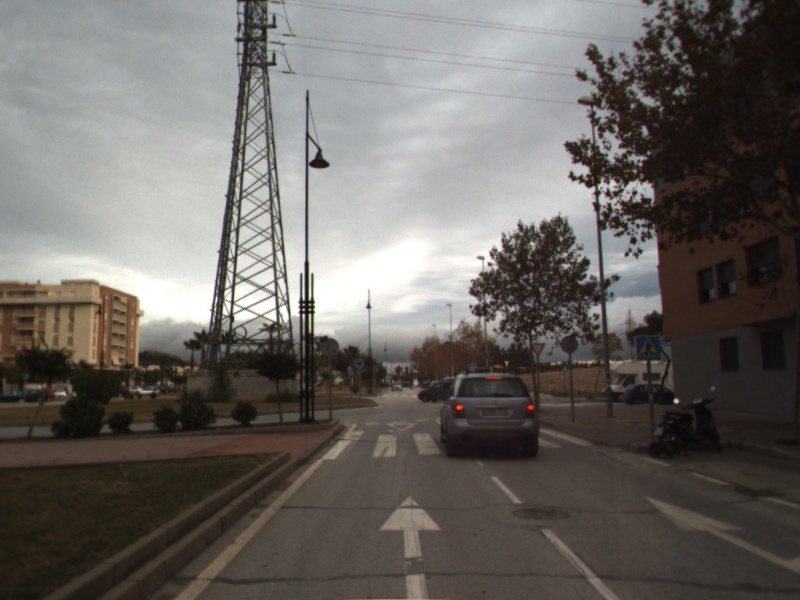STRAIGHT: (644, 495, 800, 575), (375, 493, 444, 600)
